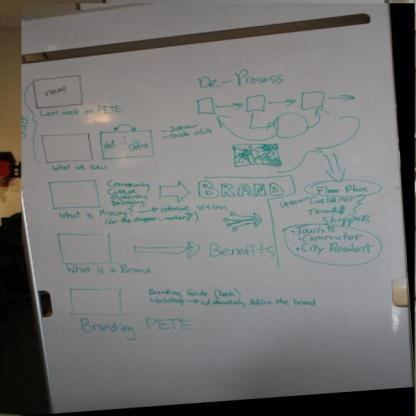Handwritten text: (75, 314, 196, 342), (191, 177, 288, 199), (36, 101, 123, 123), (207, 239, 276, 265), (59, 262, 157, 279), (55, 201, 130, 222), (231, 65, 285, 90), (296, 243, 375, 256), (315, 179, 372, 196), (156, 199, 230, 212), (47, 162, 113, 174), (295, 232, 367, 242), (322, 215, 379, 227), (108, 178, 154, 190), (289, 224, 339, 235), (194, 73, 220, 92), (306, 203, 344, 215), (127, 136, 151, 154), (44, 85, 71, 100), (101, 138, 120, 155)
Whiteboard: (21, 22, 415, 416)
